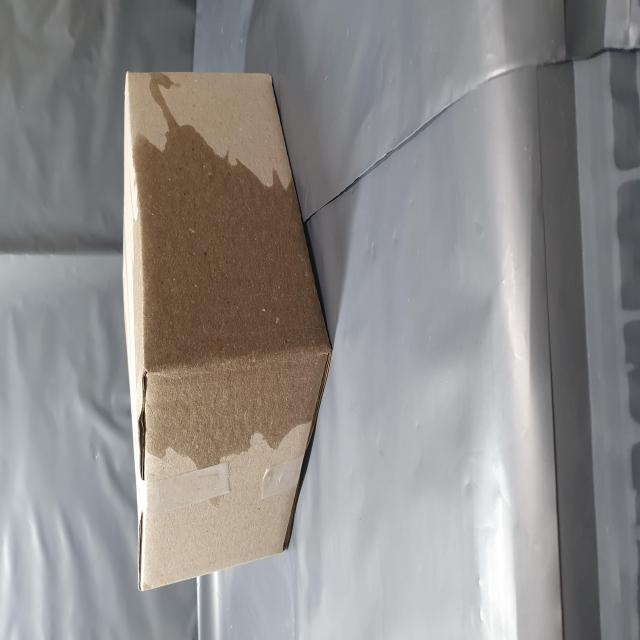wet: (90, 244, 298, 590)
